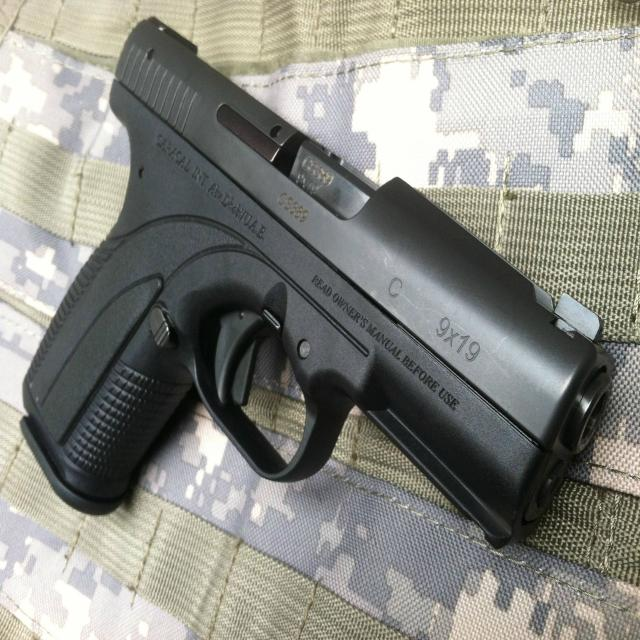Gun: (64, 38, 626, 590)
